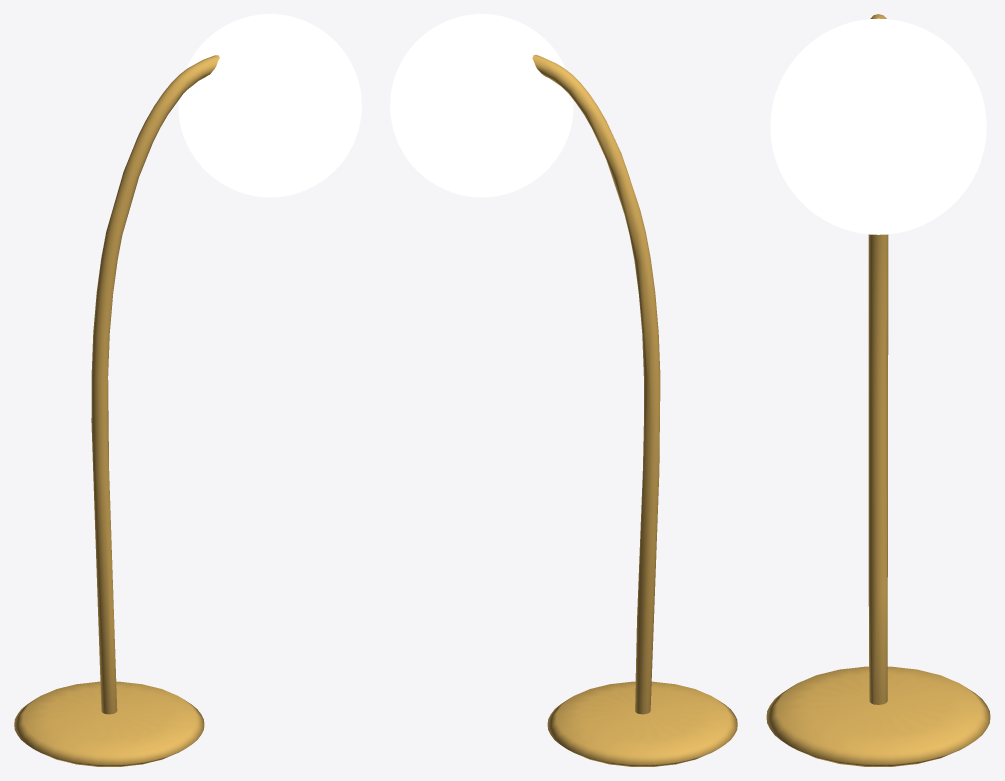
The model's file is deco_lampara_bola.glb.
3 renders of one model, left to right at view 1: azimuth 30°, elevation 25°; view 2: azimuth 150°, elevation 25°; view 3: azimuth 270°, elevation 25°, orthographic. The views are drawn at different scales.
Visible parts, largest first — view 1: bola lámpara.001, base lámpara.001, tubo lámpara.001; view 2: bola lámpara.001, base lámpara.001, tubo lámpara.001; view 3: bola lámpara.001, base lámpara.001, tubo lámpara.001.
Boxes of the visible parts, <box> form: bola lámpara.001: <box>178,14,361,197</box>; base lámpara.001: <box>14,681,204,766</box>; tubo lámpara.001: <box>91,55,219,714</box>; bola lámpara.001: <box>390,14,573,197</box>; base lámpara.001: <box>547,681,737,766</box>; tubo lámpara.001: <box>532,54,660,714</box>; bola lámpara.001: <box>770,18,986,234</box>; base lámpara.001: <box>766,666,990,766</box>; tubo lámpara.001: <box>868,14,888,704</box>.
Bounding box in the file's own units: 0.562 × 1.12 × 0.287.
